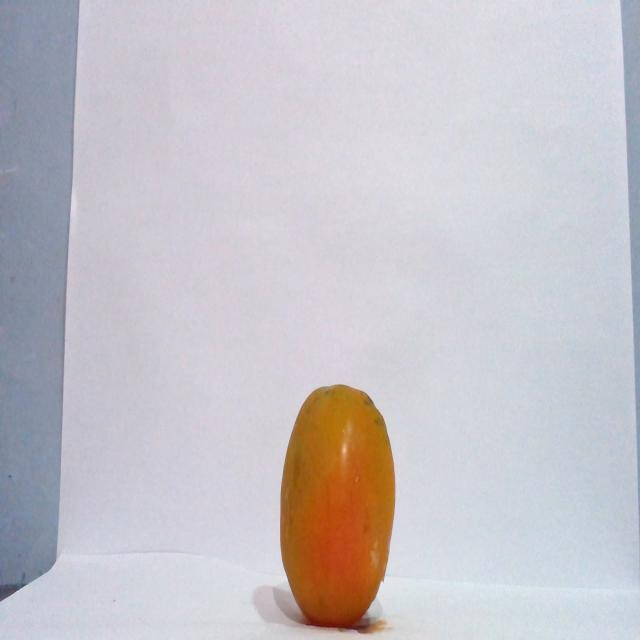Red: (278, 382, 396, 627)
